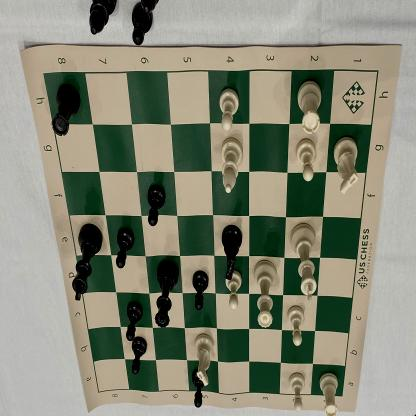black-king: (70, 220, 104, 306)
black-knight: (216, 221, 246, 280)
black-pawn: (145, 182, 169, 230), (122, 297, 145, 343), (114, 224, 136, 271), (189, 269, 212, 313), (189, 367, 211, 410), (129, 335, 151, 378)
black-queen: (150, 258, 181, 333)
black-rook: (50, 80, 84, 140)
white-bishop: (218, 135, 247, 198)
white-king: (288, 222, 321, 304)
white-knight: (331, 134, 362, 202)
white-pawn: (216, 86, 243, 134), (294, 139, 320, 184), (284, 304, 308, 348), (286, 370, 310, 414), (224, 269, 243, 311)
white-queen: (251, 259, 279, 332)
white-rook: (293, 78, 327, 137), (317, 369, 343, 416)
